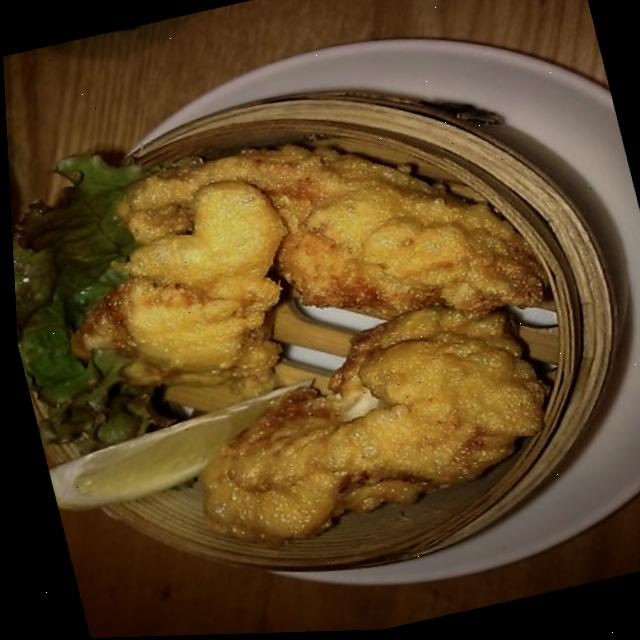鸡肉料理 含炸鸡: (2, 29, 640, 634)
